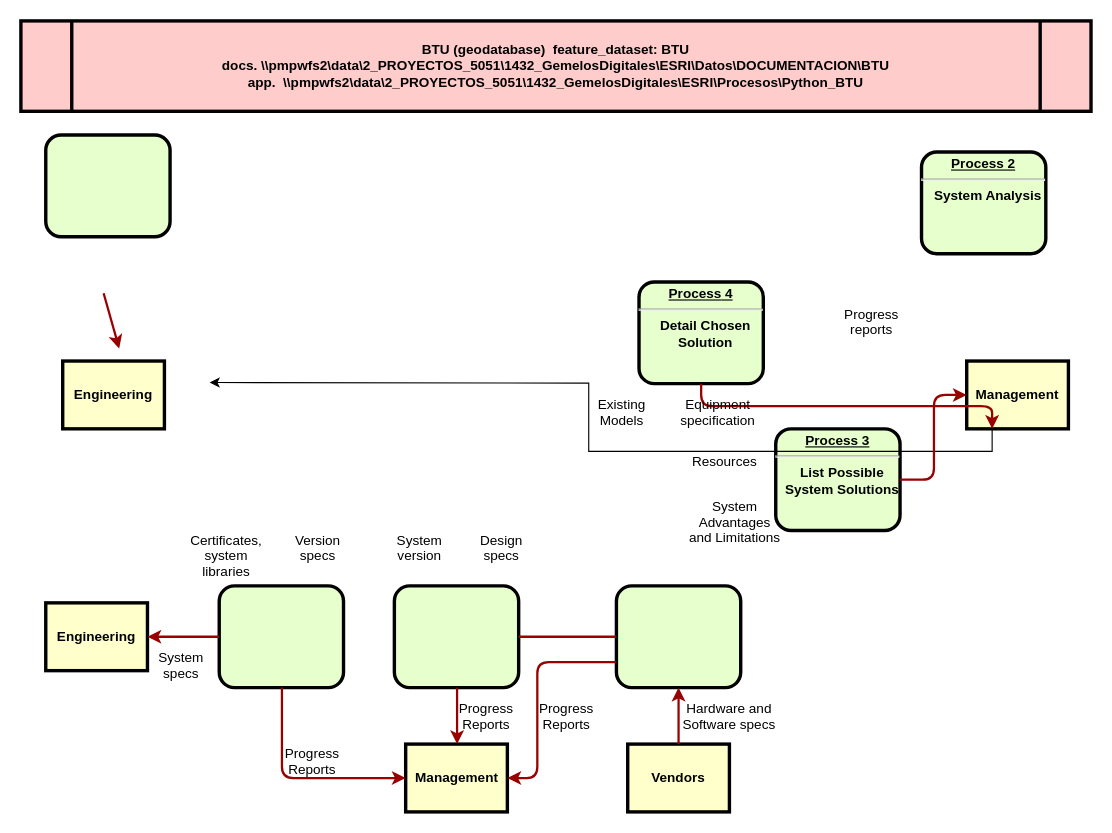
Image size: 1112x833. Some labels were removed from this diagram. The shapes that lost their labels are listed below. From the top down, each one's centre as x and y in pixels, then its label:
At (107,185): "Process 1 Explotacion BTU ID_TIPO".
At (281,636): "Process 6 New System Construction".
At (456,636): "Process 7 New System Startup and Testing".
At (678,636): "Process 5 New System Design".
